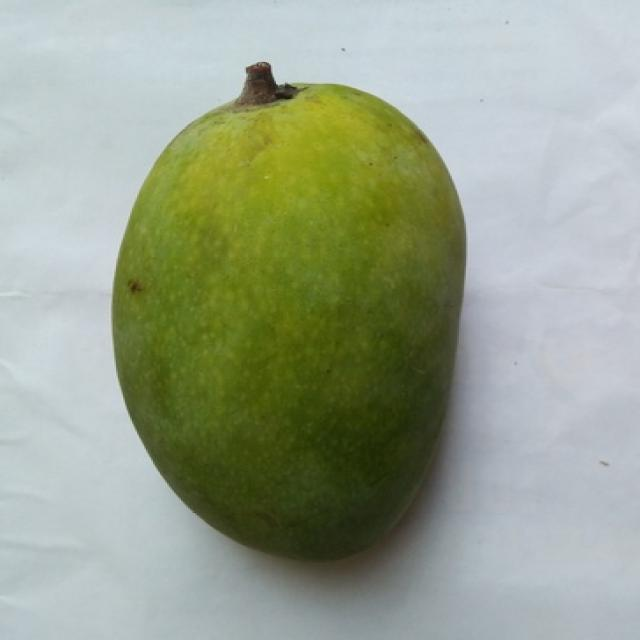Mango: (114, 67, 462, 559)
